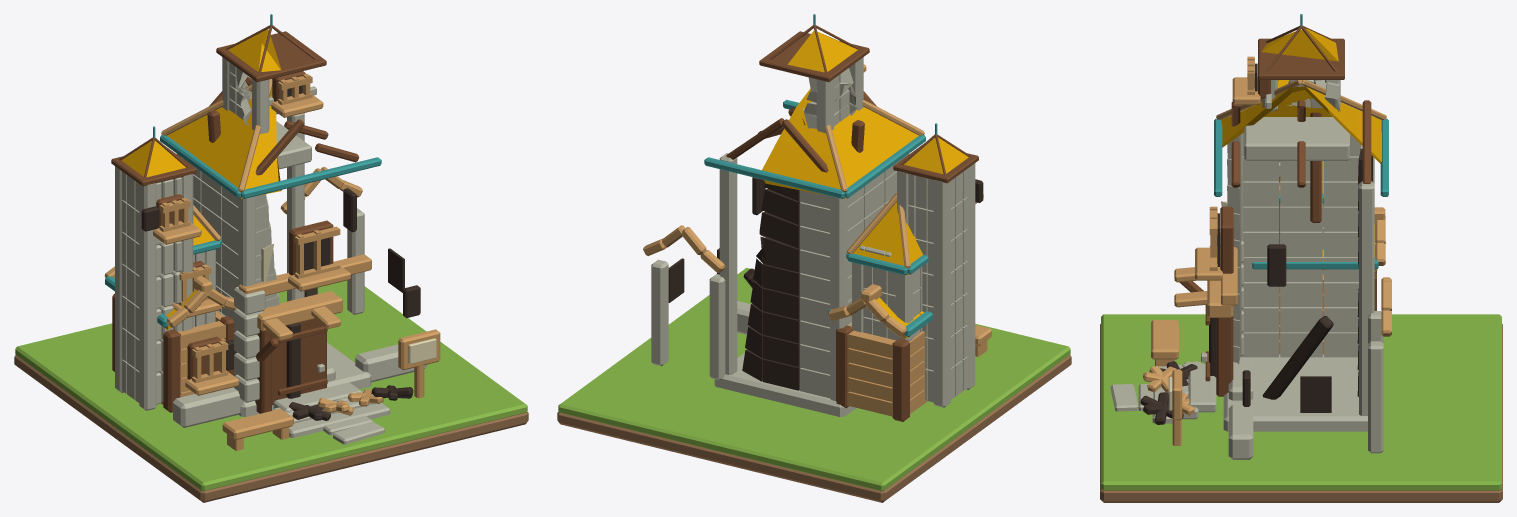
Rendered from town_hall_l07_damaged_LOD0.glb.
3 renders of one model, left to right at view 1: azimuth 30°, elevation 25°; view 2: azimuth 150°, elevation 25°; view 3: azimuth 270°, elevation 25°, orthographic. The views are drawn at different scales.
Parts seen in each view (by area): view 1: town_hall_l07_damaged_grass_tile, town_hall_l07_damaged_earth_tile, town_hall_l07_damaged_corner_reinforcement.020, town_hall_l07_damaged_hip_roof_shingle.011, town_hall_l07_damaged_door_recess, town_hall_l07_damaged_central_spire_cornice, town_hall_l07_damaged_stone_foundation_course, town_hall_l07_damaged_door_lintel, town_hall_l07_damaged_corner_reinforcement, town_hall_l07_damaged_corner_reinforcement.021, town_hall_l07_damaged_corner_reinforcement.003, town_hall_l07_damaged_foundation (+35 smaller); view 2: town_hall_l07_damaged_grass_tile, town_hall_l07_damaged_earth_tile, town_hall_l07_damaged_corner_reinforcement.021, town_hall_l07_damaged_corner_reinforcement.003, town_hall_l07_damaged_corner_reinforcement.001, town_hall_l07_damaged_hip_roof_shingle.011, town_hall_l07_damaged_foundation, town_hall_l07_damaged_hip_roof_shingle.008, town_hall_l07_damaged_corner_reinforcement.011, town_hall_l07_damaged_corner_reinforcement.020, town_hall_l07_damaged_corner_reinforcement.009, town_hall_l07_damaged_central_spire_cornice (+38 smaller); view 3: town_hall_l07_damaged_grass_tile, town_hall_l07_damaged_foundation, town_hall_l07_damaged_earth_tile, town_hall_l07_damaged_surviving_tower_course, town_hall_l07_damaged_corner_reinforcement.003, town_hall_l07_damaged_central_spire_cornice, town_hall_l07_damaged_corner_reinforcement.011, town_hall_l07_damaged_collapsed_roof_beam, town_hall_l07_damaged_central_spire_roof_shingle, town_hall_l07_damaged_stone_foundation_course.002, town_hall_l07_damaged_door_recess, town_hall_l07_damaged_window_glass.002 (+47 smaller).
Part boxes in pixels (x1,y1,x2,y2): town_hall_l07_damaged_grass_tile: (15,280,527,491); town_hall_l07_damaged_earth_tile: (14,355,528,502); town_hall_l07_damaged_corner_reinforcement.020: (139,183,156,410); town_hall_l07_damaged_hip_roof_shingle.011: (167,119,247,198); town_hall_l07_damaged_door_recess: (272,319,326,404); town_hall_l07_damaged_central_spire_cornice: (216,31,326,82); town_hall_l07_damaged_stone_foundation_course: (173,387,243,427); town_hall_l07_damaged_door_lintel: (257,291,342,331); town_hall_l07_damaged_corner_reinforcement: (238,196,255,401); town_hall_l07_damaged_corner_reinforcement.021: (115,166,123,392); town_hall_l07_damaged_corner_reinforcement.003: (287,113,304,301); town_hall_l07_damaged_foundation: (239,342,371,416); town_hall_l07_damaged_grass_tile: (558,268,1070,491); town_hall_l07_damaged_earth_tile: (557,355,1071,502); town_hall_l07_damaged_corner_reinforcement.021: (933,180,950,407); town_hall_l07_damaged_corner_reinforcement.003: (719,153,737,374); town_hall_l07_damaged_corner_reinforcement.001: (830,196,847,400); town_hall_l07_damaged_hip_roof_shingle.011: (838,119,918,198); town_hall_l07_damaged_foundation: (714,353,856,416); town_hall_l07_damaged_hip_roof_shingle.008: (762,140,844,198); town_hall_l07_damaged_corner_reinforcement.011: (651,259,668,366); town_hall_l07_damaged_corner_reinforcement.020: (966,163,975,389); town_hall_l07_damaged_corner_reinforcement.009: (709,274,725,380); town_hall_l07_damaged_central_spire_cornice: (759,31,869,82); town_hall_l07_damaged_grass_tile: (1101,314,1501,490); town_hall_l07_damaged_foundation: (1223,354,1367,431); town_hall_l07_damaged_earth_tile: (1100,324,1502,502); town_hall_l07_damaged_surviving_tower_course: (1244,117,1349,160); town_hall_l07_damaged_corner_reinforcement.003: (1359,181,1374,415); town_hall_l07_damaged_central_spire_cornice: (1258,38,1344,79); town_hall_l07_damaged_corner_reinforcement.011: (1368,341,1383,453); town_hall_l07_damaged_collapsed_roof_beam: (1262,316,1333,399); town_hall_l07_damaged_central_spire_roof_shingle: (1261,28,1338,61); town_hall_l07_damaged_stone_foundation_course.002: (1228,404,1253,459); town_hall_l07_damaged_door_recess: (1216,316,1233,396); town_hall_l07_damaged_window_glass.002: (1300,376,1331,412).
Size of the model in its own units: 3.6 by 4 by 3.6.
